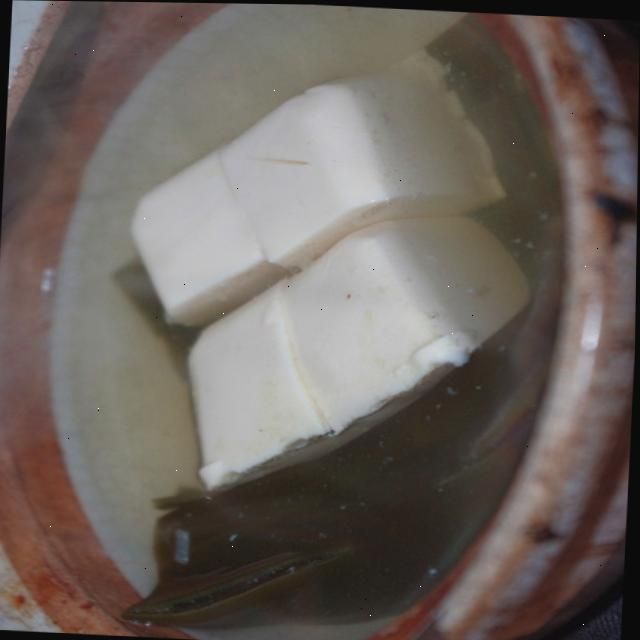豆腐料理: (21, 5, 601, 640)
